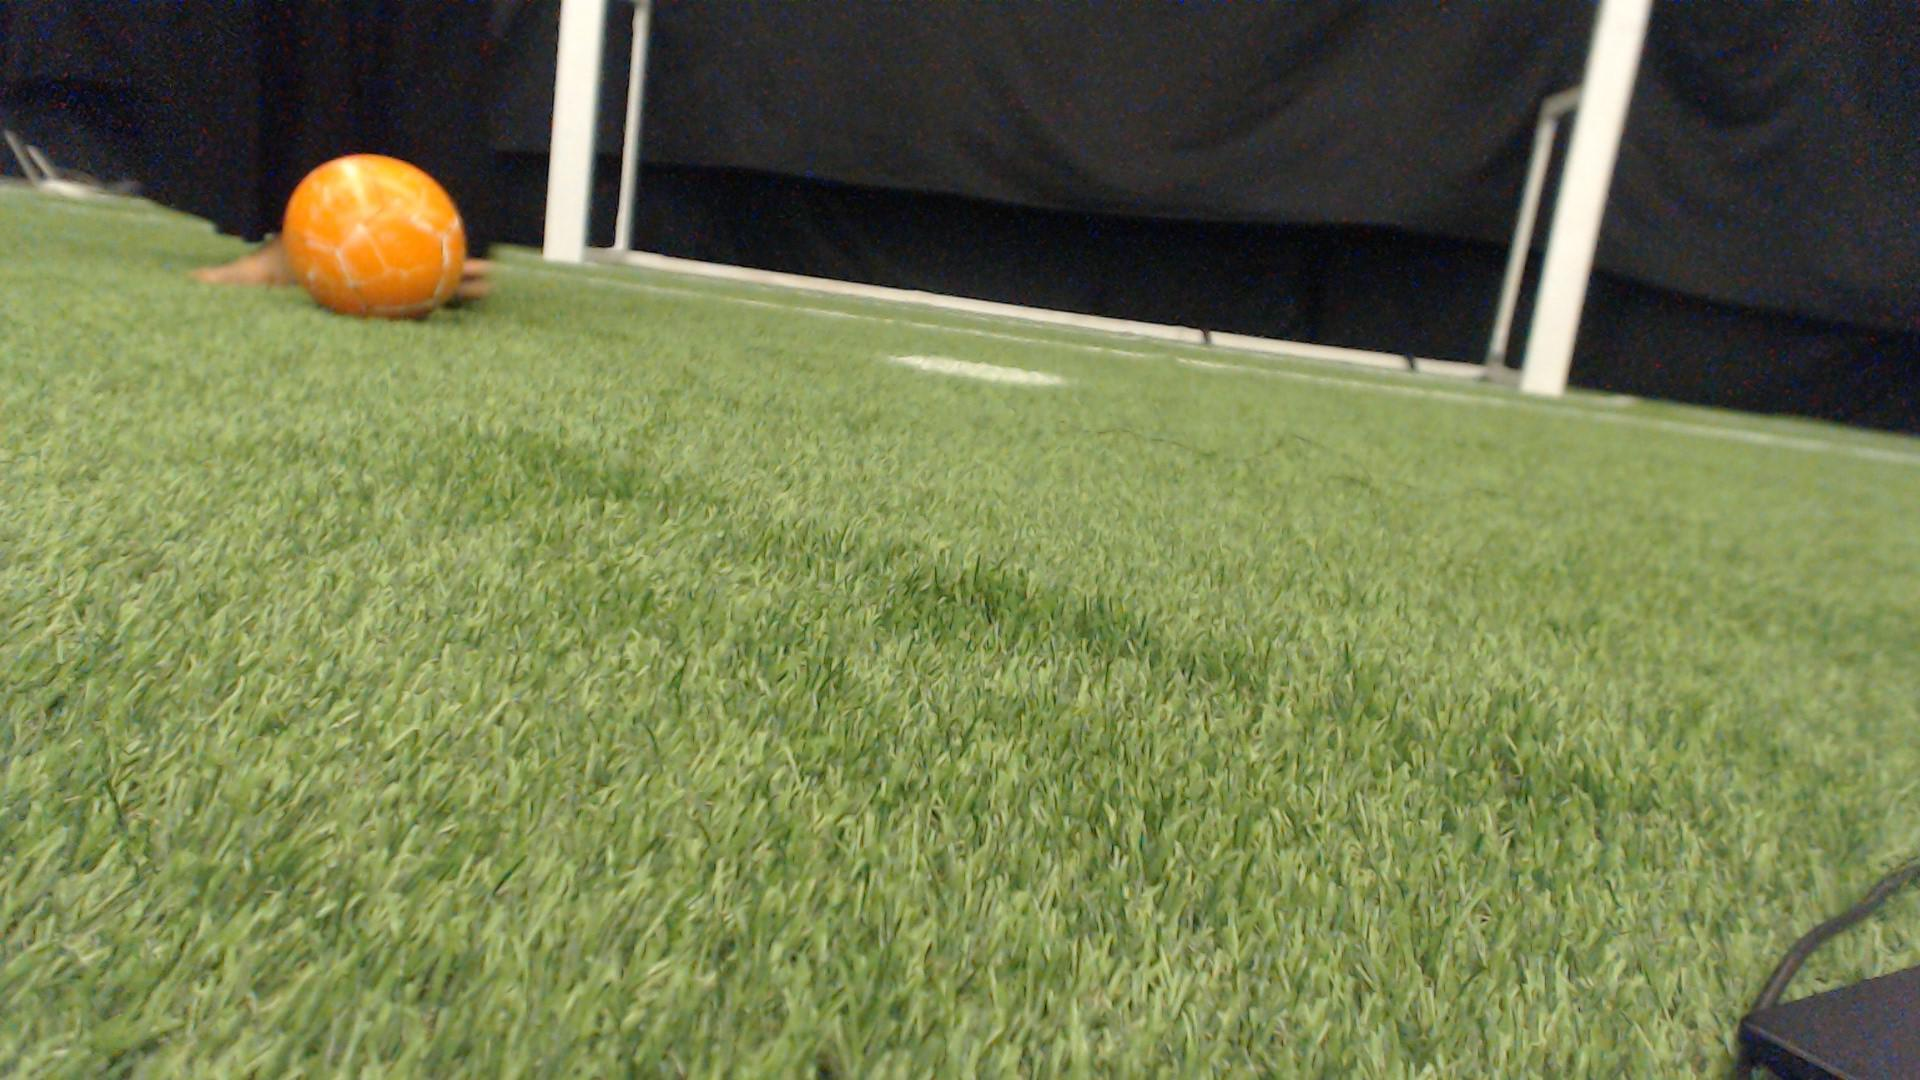bola: (265, 138, 488, 326)
